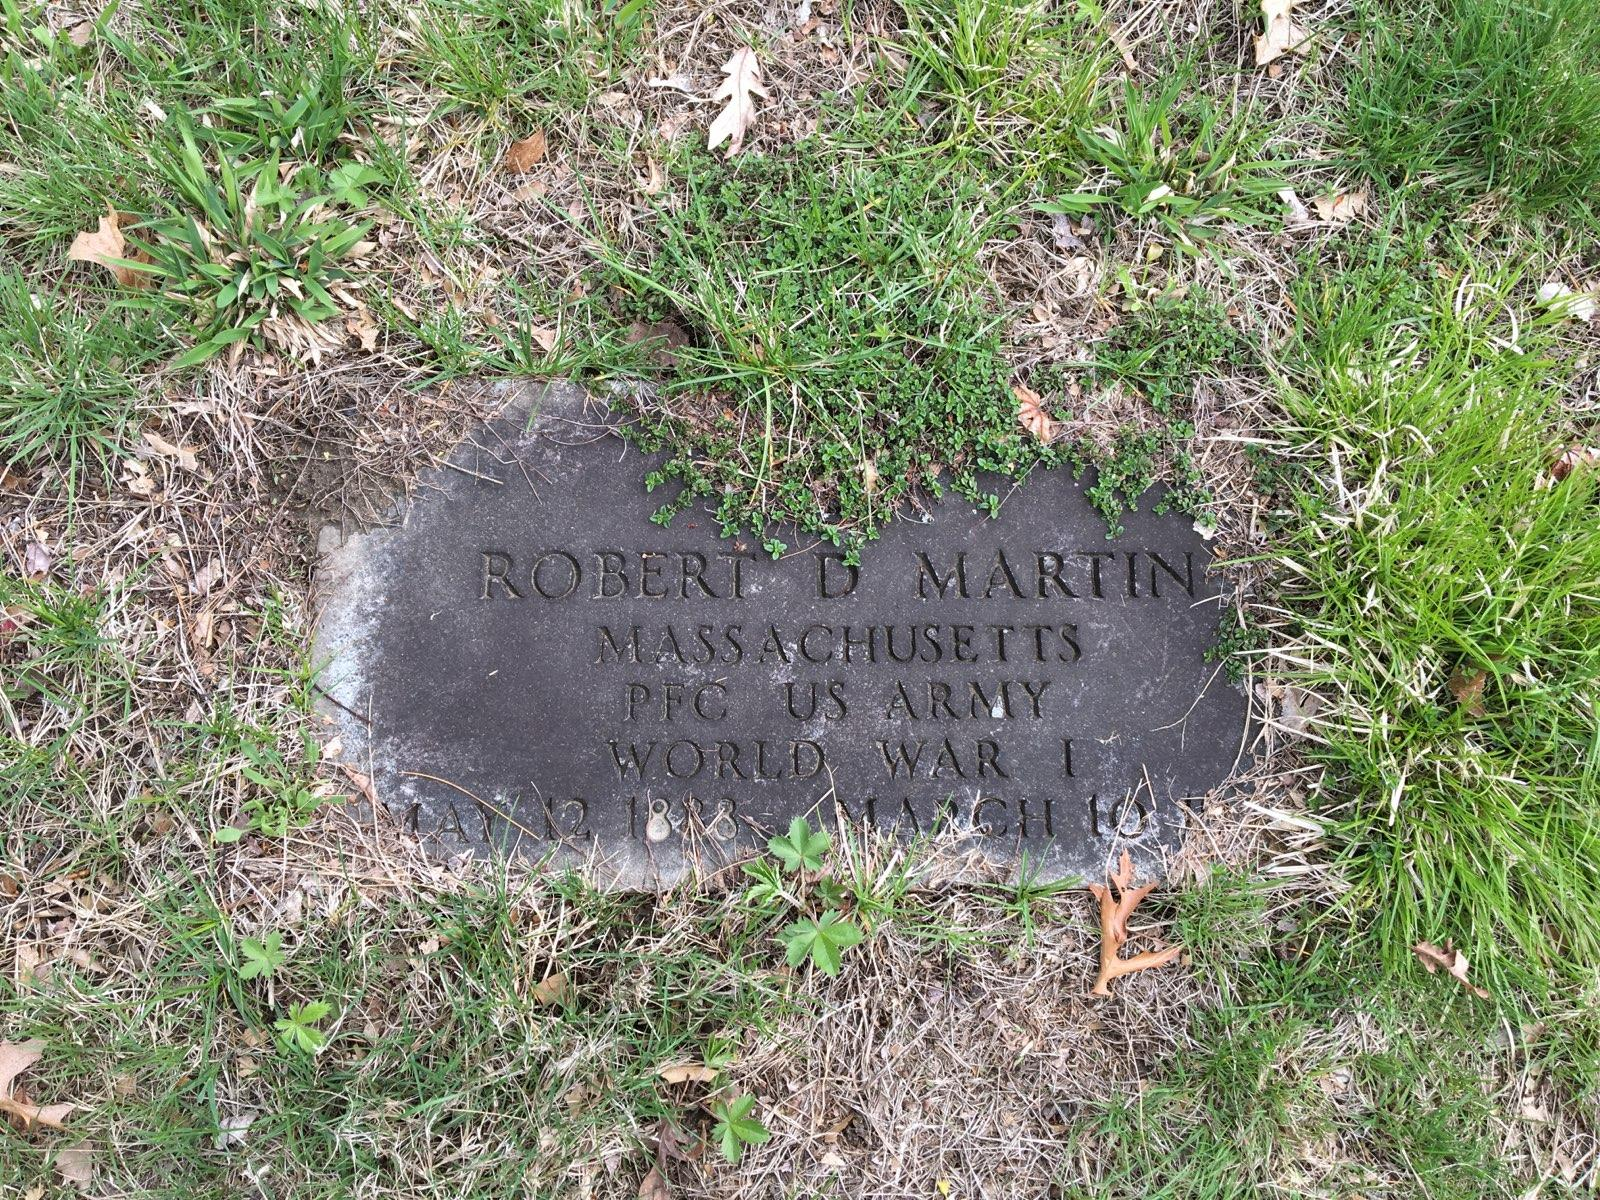flat: (343, 389, 1250, 886)
